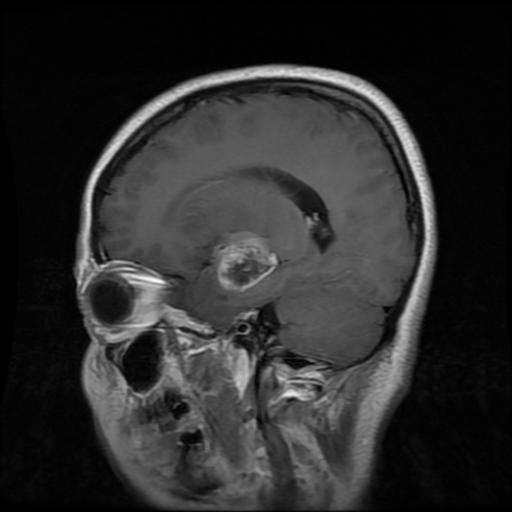Gliomia_tumour: (213, 231, 277, 291)
